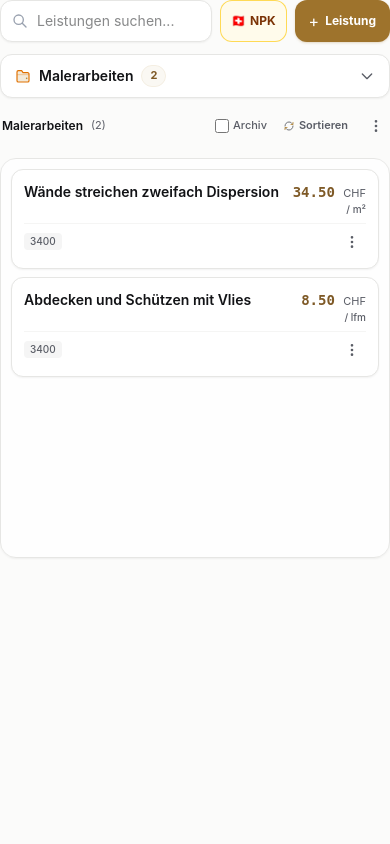
KatalogView Mobile Optimization › opens category actions sheet when clicking category menu button
Expected: the 1st text "Malerarbeiten" is shown, x1=39 y1=66 x2=134 y2=86
Click the button titled "Kategorie-Aktionen". click: (376, 126)
box: x1=364 y1=114 x2=388 y2=138
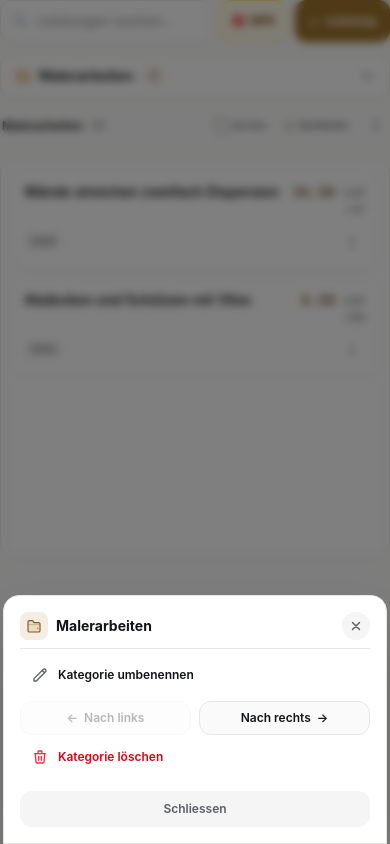
Expected: the button "Kategorie umbenennen" is shown, x1=20 y1=657 x2=370 y2=693
Expected: the button "Kategorie löschen" is shown, x1=20 y1=739 x2=370 y2=775
Expected: the button "← Nach links" is shown, x1=20 y1=701 x2=191 y2=735
